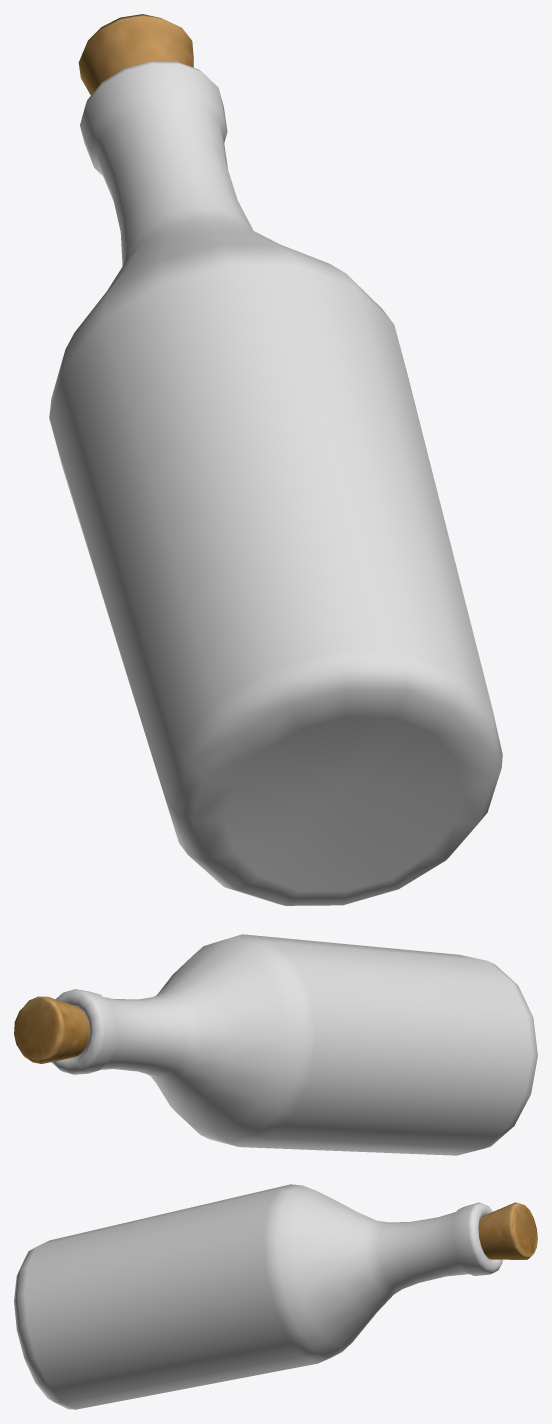
The picture shows the model from 3 angles, top to bottom: view 1: azimuth 30°, elevation 25°; view 2: azimuth 150°, elevation 25°; view 3: azimuth 270°, elevation 25°; orthographic projection. The views are drawn at different scales.
Visible parts, largest first — view 1: SM_Human_Rowboat_Bottle_01_LOD0; view 2: SM_Human_Rowboat_Bottle_01_LOD0; view 3: SM_Human_Rowboat_Bottle_01_LOD0.
Boxes of the visible parts, <box> form: SM_Human_Rowboat_Bottle_01_LOD0: <box>49,14,502,905</box>; SM_Human_Rowboat_Bottle_01_LOD0: <box>14,934,537,1155</box>; SM_Human_Rowboat_Bottle_01_LOD0: <box>14,1184,537,1409</box>.
Bounding box in the file's own units: 0.1922 × 0.2098 × 0.3881.
Materials: 2 (1 with a texture image).
